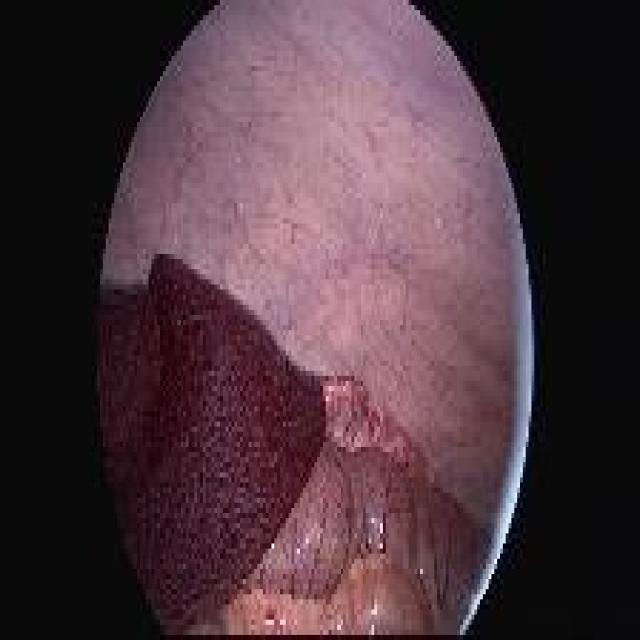color misalignment: (505, 171, 532, 534), (479, 528, 505, 593), (457, 584, 482, 634)
specularity: (261, 607, 289, 631), (292, 534, 312, 555), (361, 512, 376, 530), (368, 602, 382, 619), (362, 534, 376, 550), (365, 622, 382, 635), (378, 520, 386, 540), (326, 381, 336, 396), (334, 617, 342, 634), (414, 567, 424, 580), (225, 594, 233, 610), (269, 539, 277, 554), (258, 564, 266, 577), (324, 625, 333, 635)
